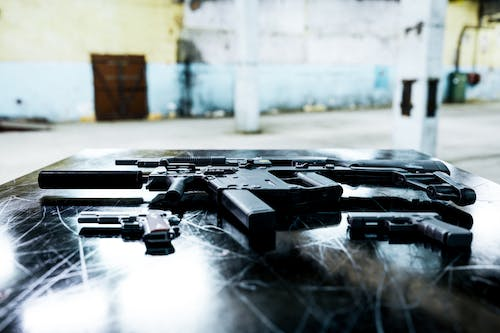gun: (37, 154, 479, 233), (345, 209, 474, 249), (76, 209, 183, 244)
